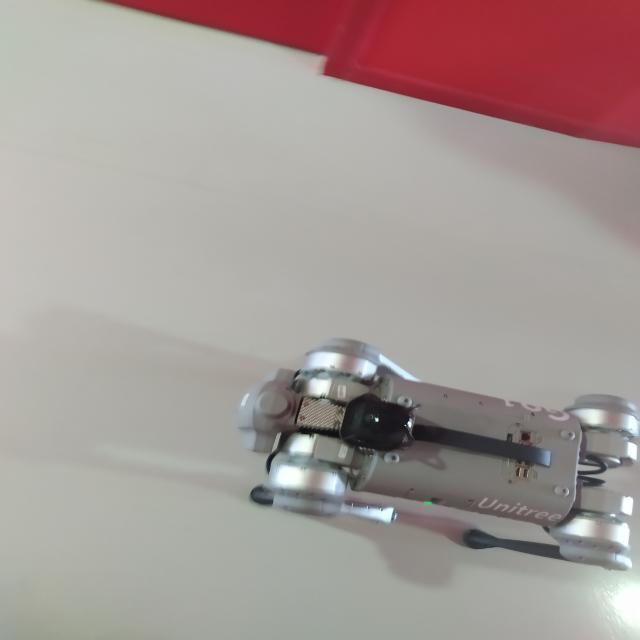unitree-go1-robot: (235, 332, 640, 590)
